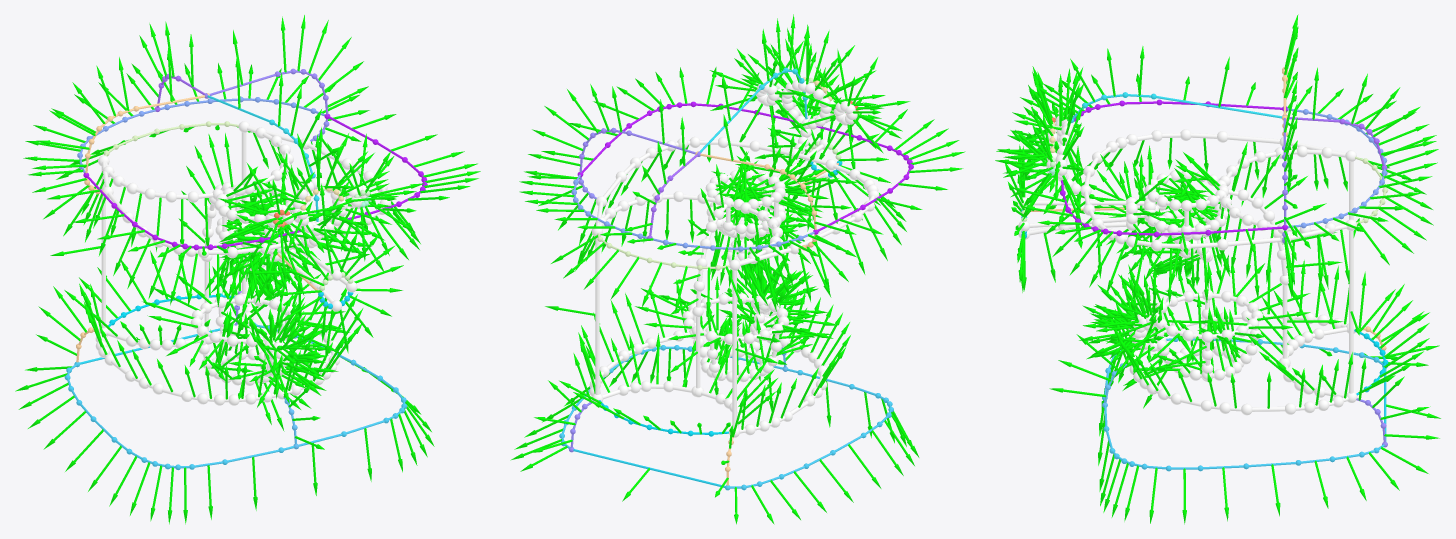
Rendered from flowsurf_expresso.gltf.
3 renders of one model, left to right at view 1: azimuth 30°, elevation 25°; view 2: azimuth 150°, elevation 25°; view 3: azimuth 270°, elevation 25°, orthographic. The views are drawn at different scales.
Bounding box in the file's own units: 0.7255 × 0.7792 × 0.7616.
